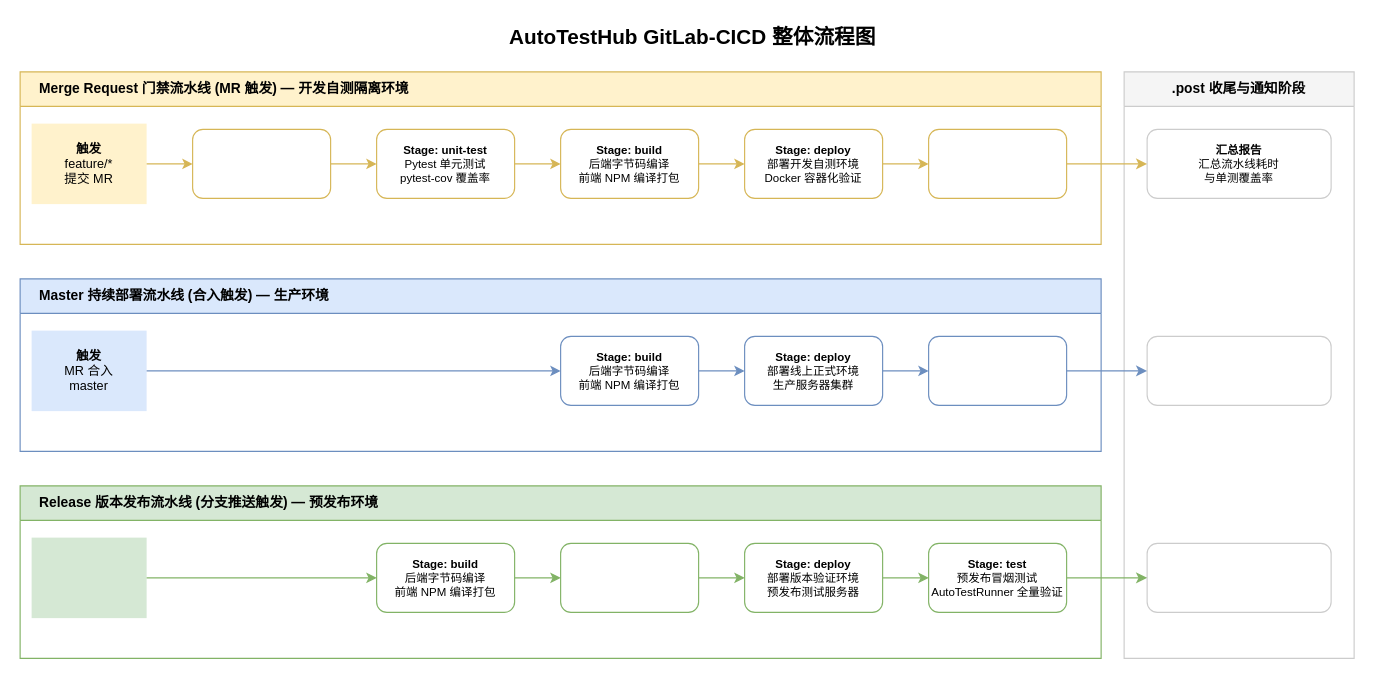
Image size: 1374x679. Some labels were removed from this diagram. The shapes that lost their labels are listed below. From the top down, each one's centre as x and y in pixels, then its label:
pixel 261 163: Stage: scan Bandit 安全扫描 tsc 前端类型检查
pixel 997 163: Stage: test 网页与接口冒烟 本地 Runner 验证
pixel 997 370: Stage: test 线上应用冒烟测试
pixel 1238 370: 结果上报 测试质量结果 自动上传云端
pixel 88 577: 触发 推送分支 release/*
pixel 629 577: Stage: package 打包版本正式制品 (.tar.gz 压缩归档)
pixel 1238 577: 即时通知 飞书机器人自动 推送结果至提交人
